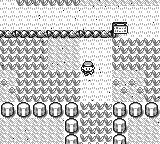captura: (1, 38, 80, 102), (112, 39, 160, 101), (80, 102, 113, 143), (17, 0, 80, 6)
leer: (112, 22, 127, 37)
main: (81, 61, 95, 76)
no-caminable: (1, 102, 79, 143), (114, 102, 160, 143)
salto: (0, 31, 112, 38)
